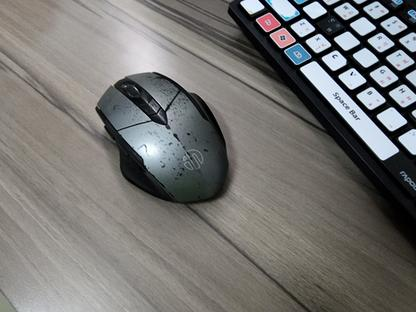mouse: (93, 70, 230, 203)
